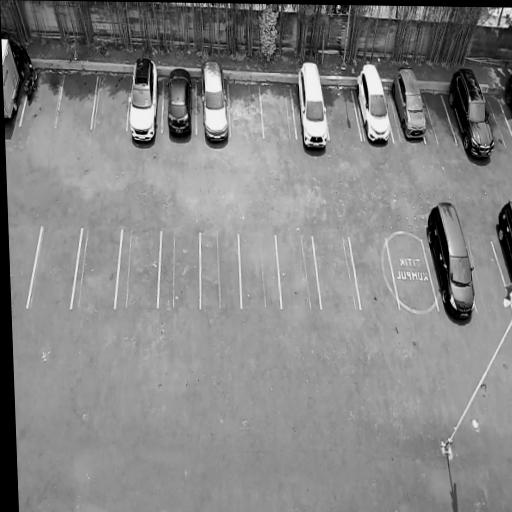Car: (417, 199, 483, 329), (442, 69, 503, 164), (350, 62, 396, 148), (390, 68, 430, 146), (126, 59, 161, 146), (297, 61, 330, 149), (1, 32, 30, 124), (199, 62, 230, 142), (164, 68, 194, 146), (493, 202, 512, 278), (501, 72, 512, 127)
Space Available: (382, 212, 443, 321), (27, 209, 86, 317), (305, 216, 360, 329), (70, 211, 125, 316), (460, 216, 512, 324), (155, 210, 206, 319), (347, 213, 398, 321), (115, 212, 166, 316), (197, 211, 243, 322), (240, 210, 280, 325), (279, 215, 315, 321), (51, 67, 99, 140), (89, 67, 132, 140), (259, 82, 299, 158), (228, 82, 268, 156), (322, 82, 364, 152), (418, 91, 462, 149), (483, 87, 512, 157)
